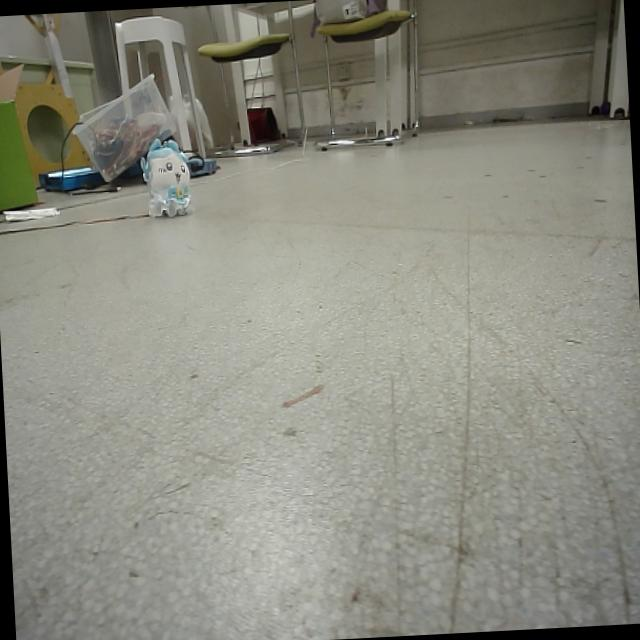xiaoba: (136, 133, 196, 221)
